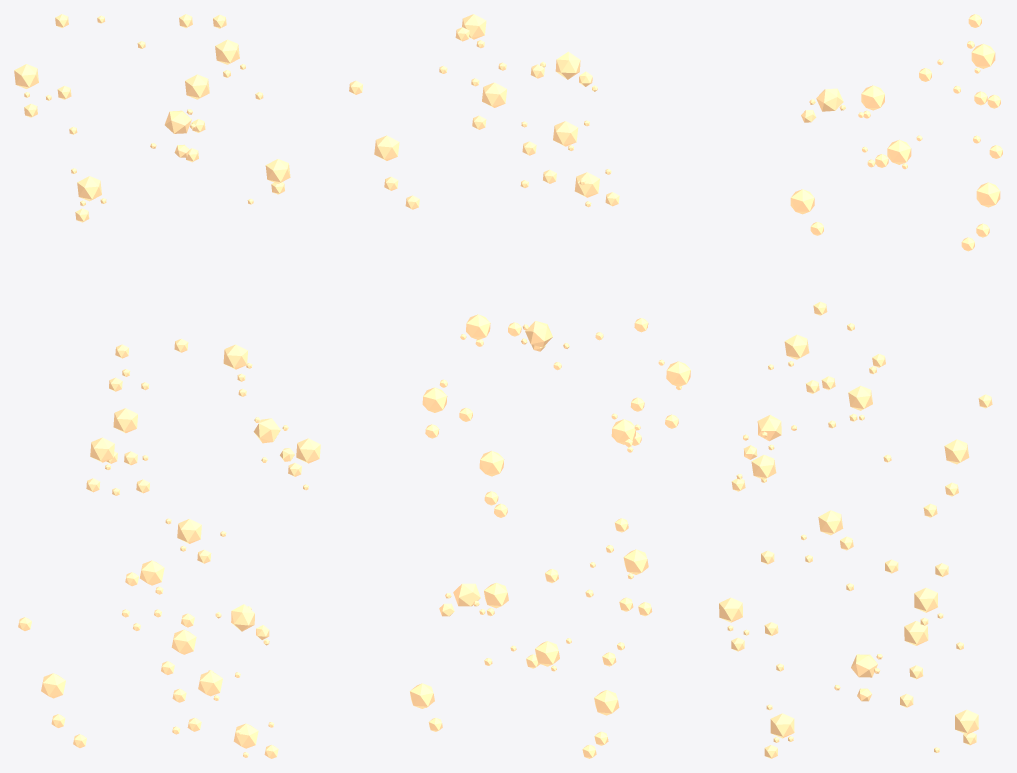
File: lvl1_glowing_spheres_start.glb
3 renders of one model, left to right at view 1: azimuth 30°, elevation 25°; view 2: azimuth 150°, elevation 25°; view 3: azimuth 270°, elevation 25°, orthographic. The views are drawn at different scales.
Visible parts, largest first — view 1: glowing spheres start; view 2: glowing spheres start; view 3: glowing spheres start.
Part boxes in pixels (x1,y1,x2,y2): glowing spheres start: [14, 14, 320, 758]; glowing spheres start: [349, 14, 690, 758]; glowing spheres start: [719, 14, 1002, 758].
Bounding box in the file's own units: 31.78 × 87.72 × 32.16.
Materials: 1 (1 with a texture image).
